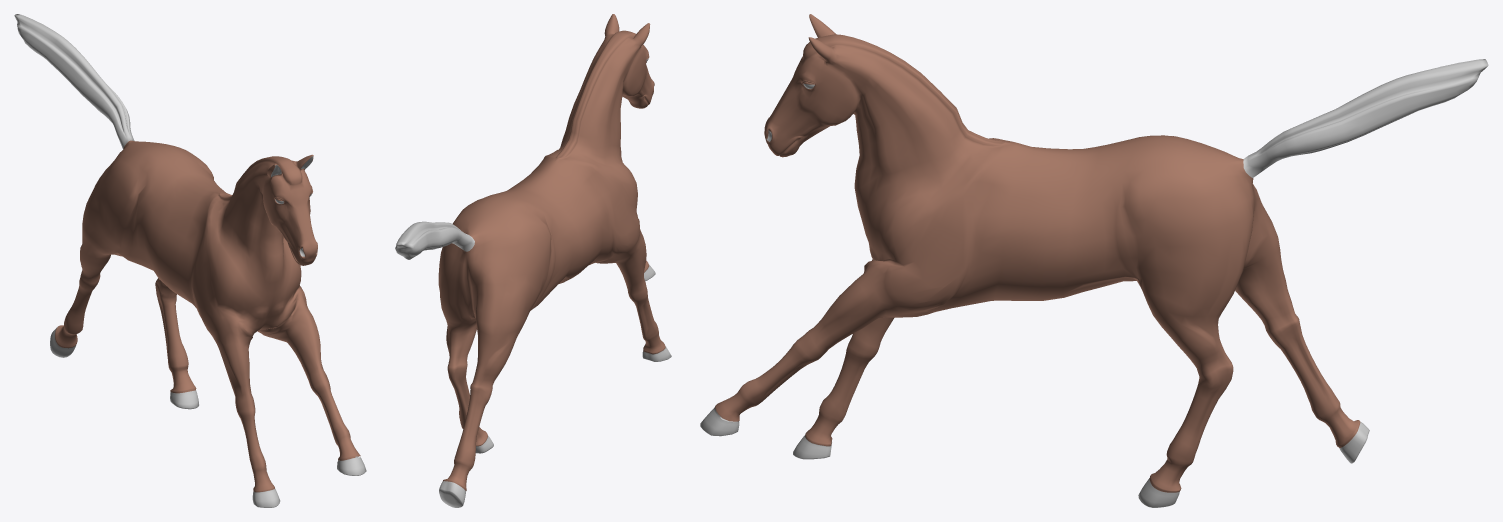
File: horse_obj_23.obj
3 views of the same model, side by side, from view 1: azimuth 30°, elevation 25°; view 2: azimuth 150°, elevation 25°; view 3: azimuth 270°, elevation 25° (orthographic). The views are drawn at different scales.
Parts seen in each view (by area): view 1: Figure_1; view 2: Figure_1; view 3: Figure_1.
Boxes of the visible parts, bbox=[...] form: Figure_1: bbox=[14, 14, 366, 507]; Figure_1: bbox=[395, 14, 671, 507]; Figure_1: bbox=[700, 14, 1488, 507].
Bounding box in the file's own units: 0.2421 × 0.8427 × 1.31.
